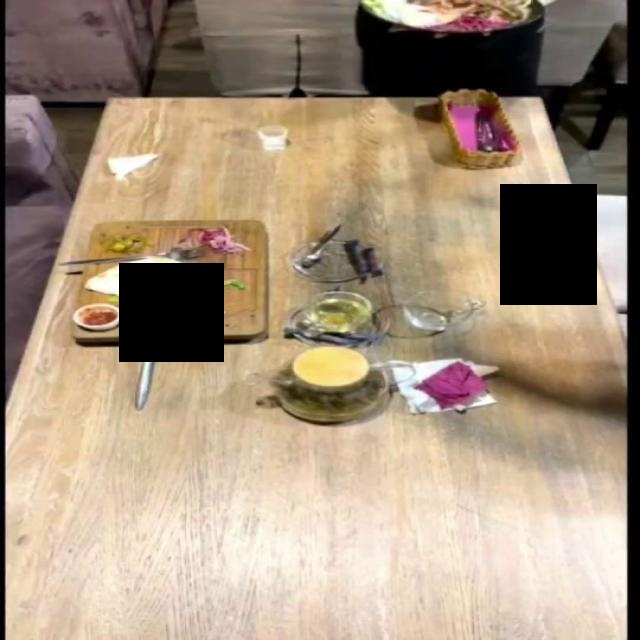meat: (68, 216, 273, 346), (349, 0, 562, 50)
tea: (268, 345, 387, 422)
